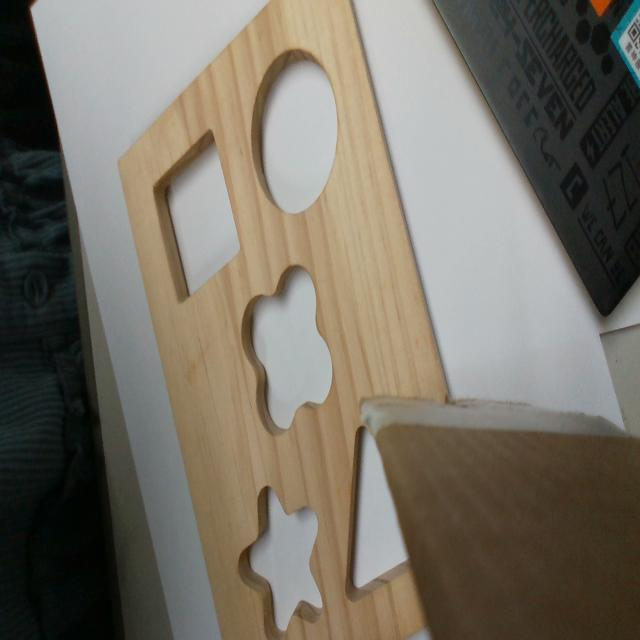circle: (251, 50, 339, 214)
flower: (240, 267, 334, 437)
square: (153, 127, 243, 306)
star: (235, 487, 322, 636)
triangle: (342, 423, 415, 608)
